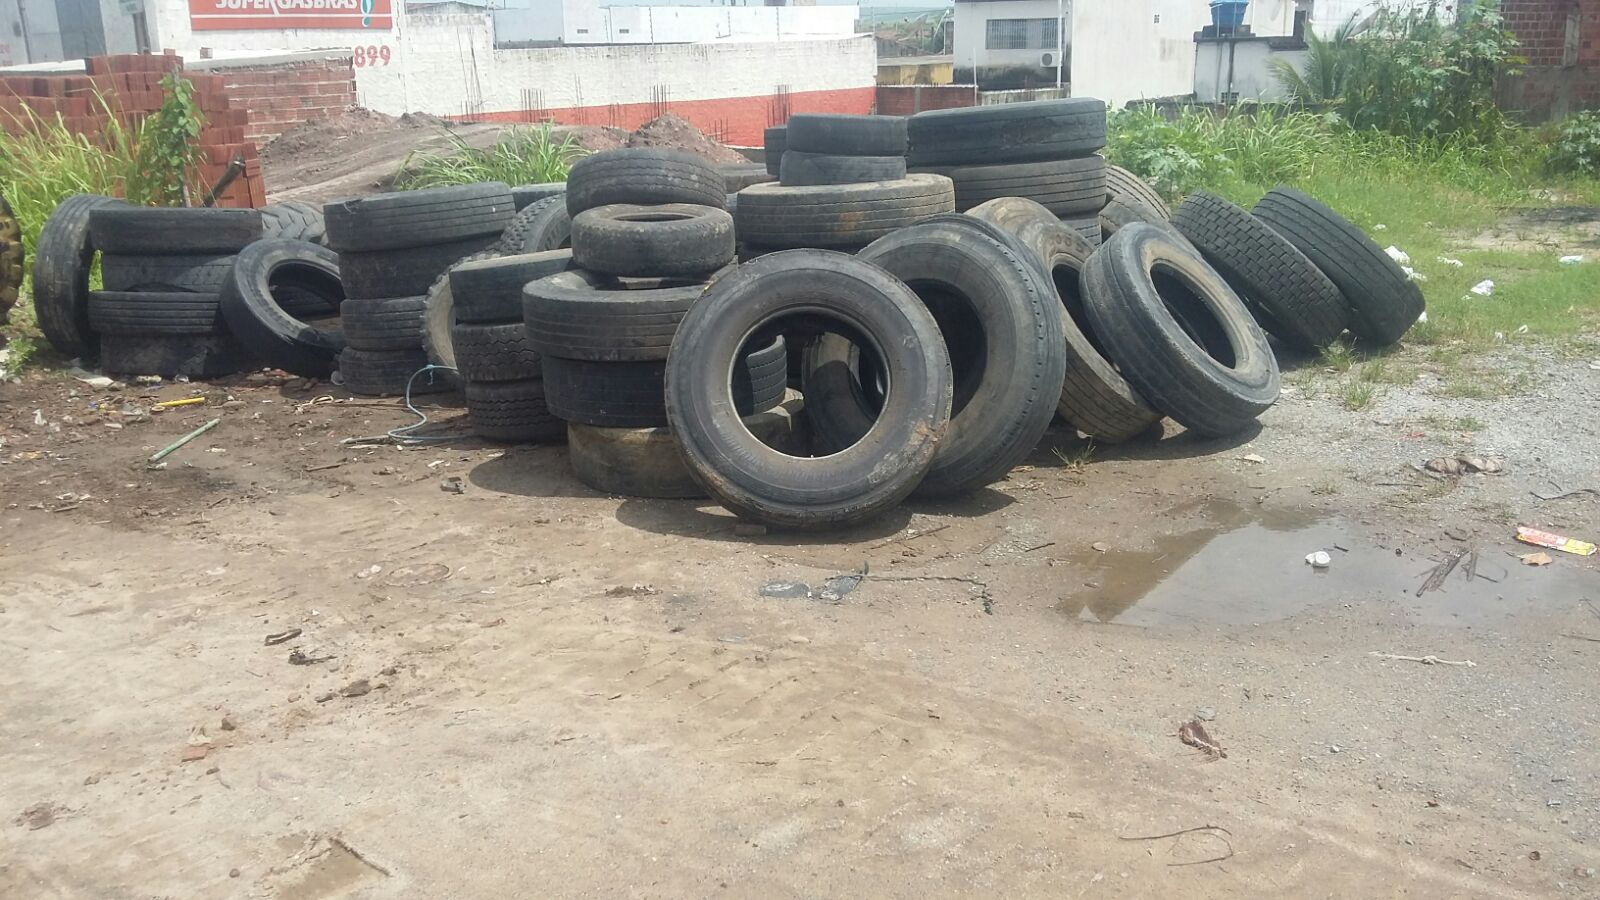tire: (677, 251, 949, 535), (810, 216, 1069, 514), (1077, 212, 1280, 442), (991, 210, 1169, 451), (1157, 186, 1349, 362), (1244, 184, 1433, 362), (215, 235, 385, 379), (29, 195, 166, 368), (726, 177, 967, 236), (915, 154, 1116, 223), (884, 99, 1115, 156), (558, 202, 738, 271), (557, 153, 741, 214), (92, 329, 268, 390), (335, 345, 516, 404), (322, 190, 514, 243), (75, 285, 264, 336), (334, 295, 507, 349), (90, 204, 268, 254), (332, 244, 512, 289), (96, 249, 277, 292), (765, 148, 916, 195), (782, 115, 915, 153)
